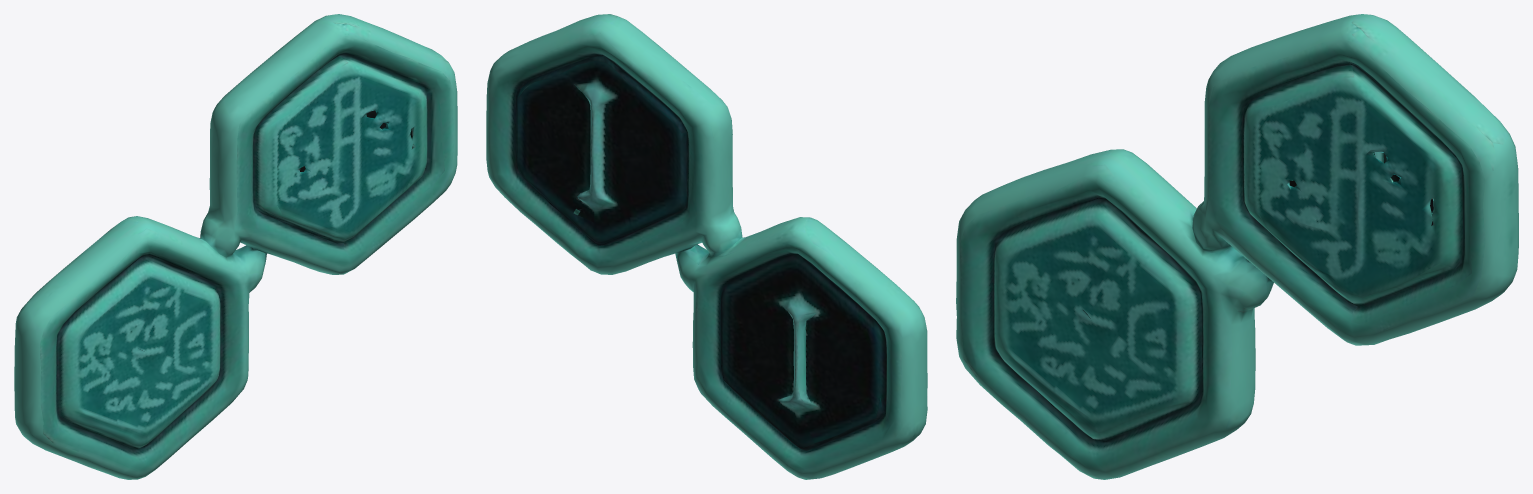
File: fs_tether_rune.glb
3 renders of one model, left to right at view 1: azimuth 30°, elevation 25°; view 2: azimuth 150°, elevation 25°; view 3: azimuth 330°, elevation 25°, orthographic. The views are drawn at different scales.
Parts seen in each view (by area): view 1: geometry_0; view 2: geometry_0; view 3: geometry_0.
Part boxes in pixels (x1,y1,x2,y2): geometry_0: [14, 14, 457, 479]; geometry_0: [486, 14, 927, 479]; geometry_0: [956, 14, 1518, 479].
Size of the model in its own units: 1 by 0.9075 by 0.1039.
1 material, 1 textured.
